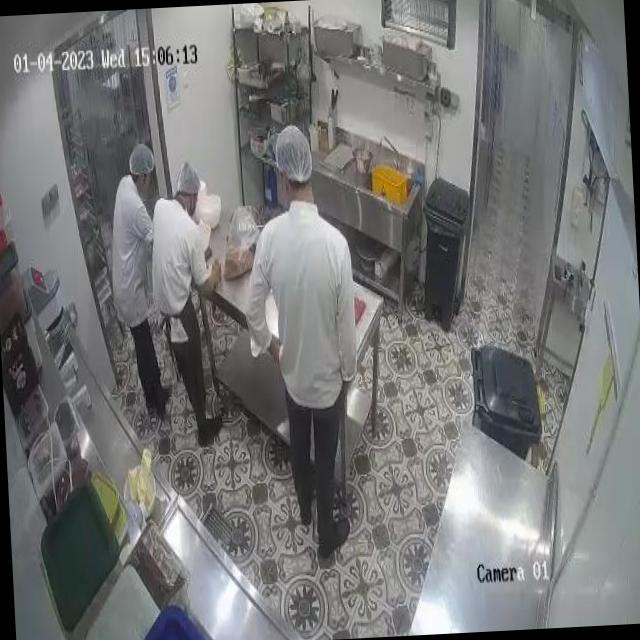hairnet: (272, 126, 313, 186), (128, 142, 156, 175), (176, 163, 201, 196)
